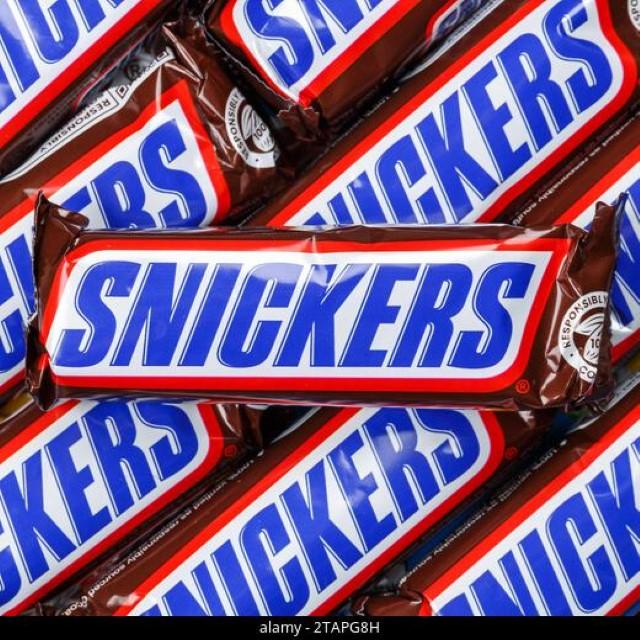snickers_chocolate: (60, 230, 548, 410), (302, 10, 618, 278), (213, 377, 567, 615), (0, 58, 211, 316), (0, 435, 228, 586)
